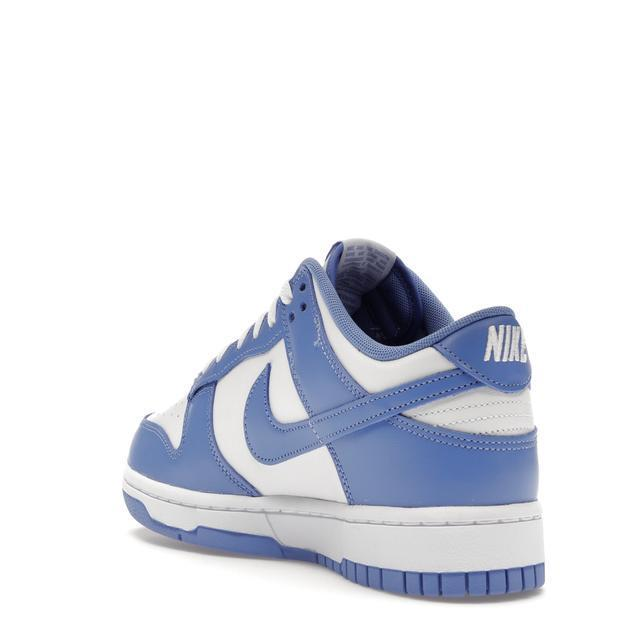J1_InsoleChar: (119, 235, 548, 602)
J1_StitchPattern: (183, 260, 535, 464), (120, 481, 547, 599), (246, 365, 536, 464), (120, 484, 546, 532), (313, 552, 546, 599), (190, 303, 279, 385), (404, 390, 536, 437), (328, 237, 397, 312), (336, 240, 393, 280), (480, 321, 529, 366)
